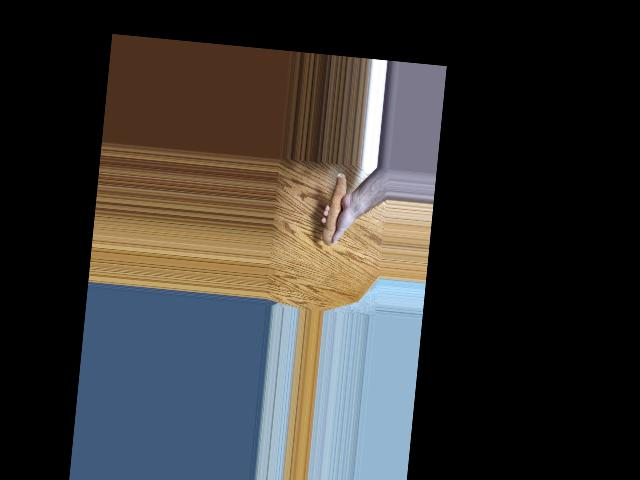sweet_potato: (318, 172, 349, 245)
